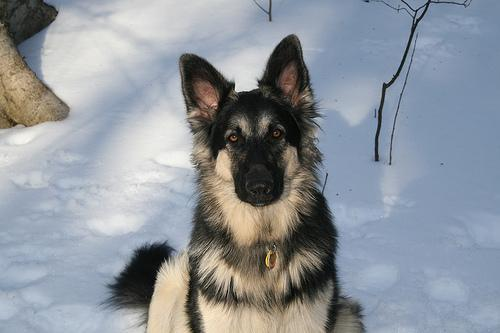German_shepherd: (107, 34, 366, 331)
